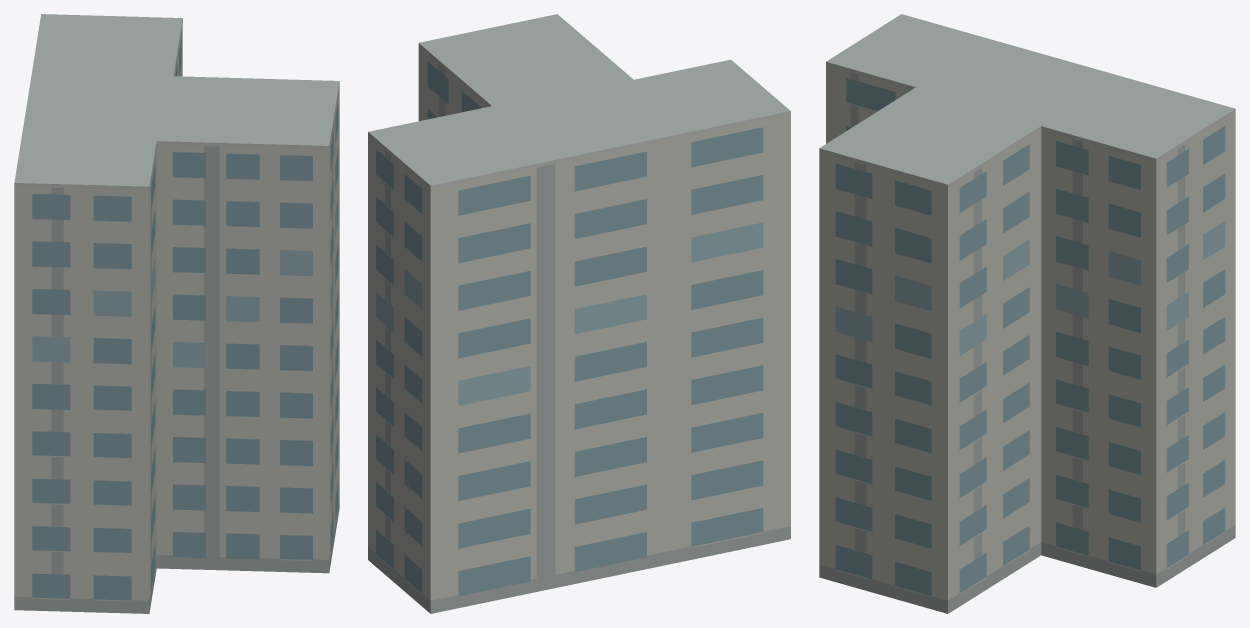
The model's file is residential-615c6be7-fe98-41a2-b5a8-a1b08029e2e5.glb.
3 renders of one model, left to right at view 1: azimuth 30°, elevation 25°; view 2: azimuth 150°, elevation 25°; view 3: azimuth 270°, elevation 25°, orthographic.
Parts seen in each view (by area): view 1: residential-615c6be7-fe98-41a2-b5a8-a1b08029e2e5.tmp; view 2: residential-615c6be7-fe98-41a2-b5a8-a1b08029e2e5.tmp; view 3: residential-615c6be7-fe98-41a2-b5a8-a1b08029e2e5.tmp.
Boxes of the visible parts, x1,y1,x2,y2 form: residential-615c6be7-fe98-41a2-b5a8-a1b08029e2e5.tmp: (14,14,339,613); residential-615c6be7-fe98-41a2-b5a8-a1b08029e2e5.tmp: (368,14,790,613); residential-615c6be7-fe98-41a2-b5a8-a1b08029e2e5.tmp: (819,14,1235,613).
Bounding box in the file's own units: 23.04 × 27 × 23.74.
